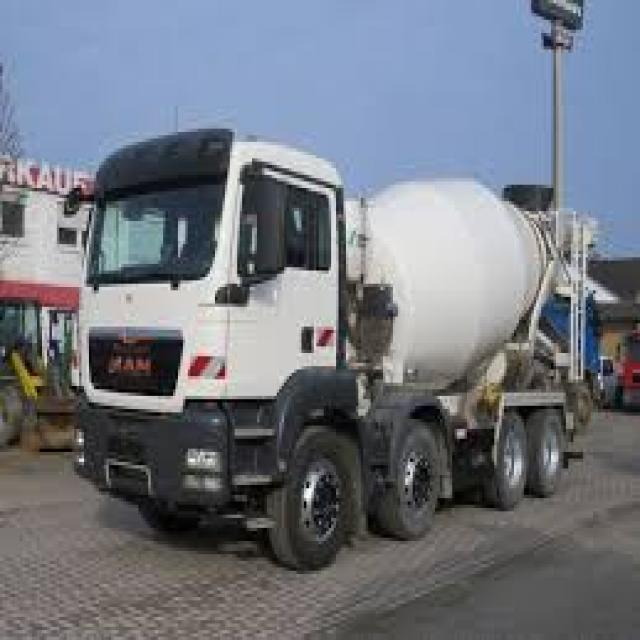Mixer Truck: (63, 125, 598, 571)
